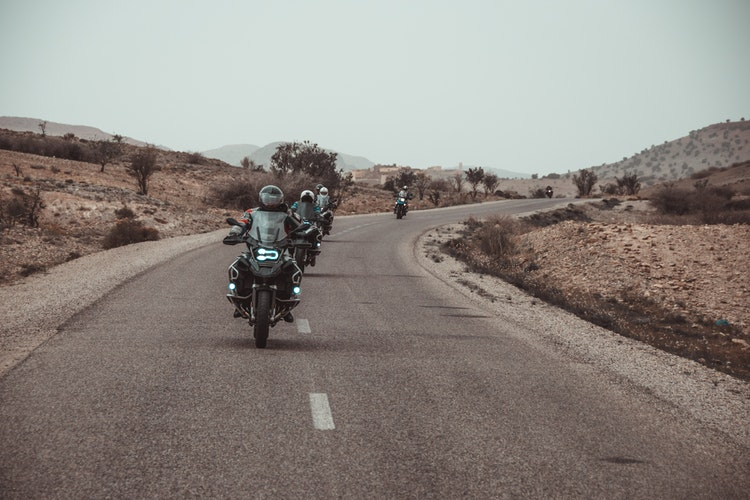helmet: (260, 183, 291, 212), (300, 191, 316, 204)
